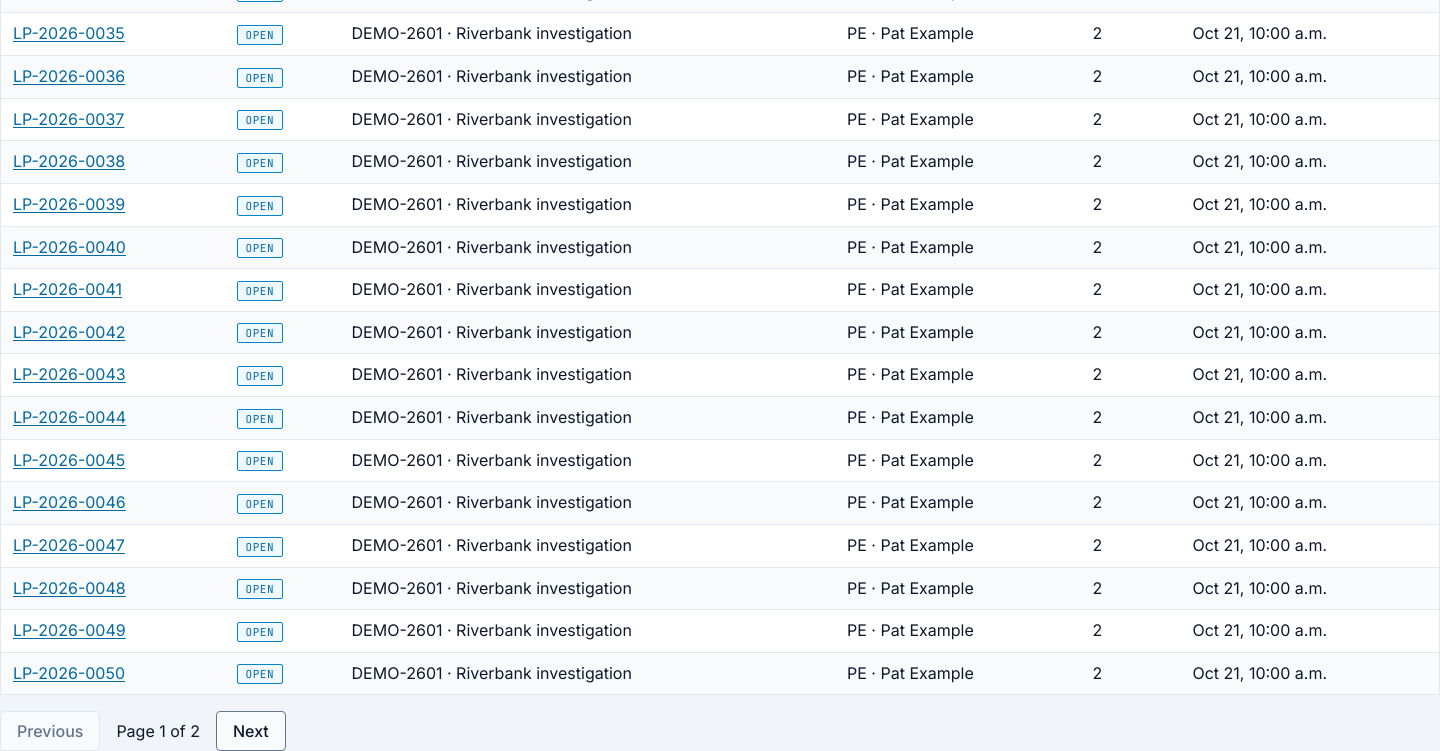
Test: Lab Testing → Programs list › BUG-002: pages through 51 programs and reaches the 51st
The width and height of the screenshot is (1440, 751).
(page scrolled)
Expected: the button "Previous" is disabled, [0,712,100,750]
Expected: the text "Page 1 of 2" is shown, [116,722,200,742]
Click the button "Next": (251, 732) [216,712,286,750]
(page scrolled)
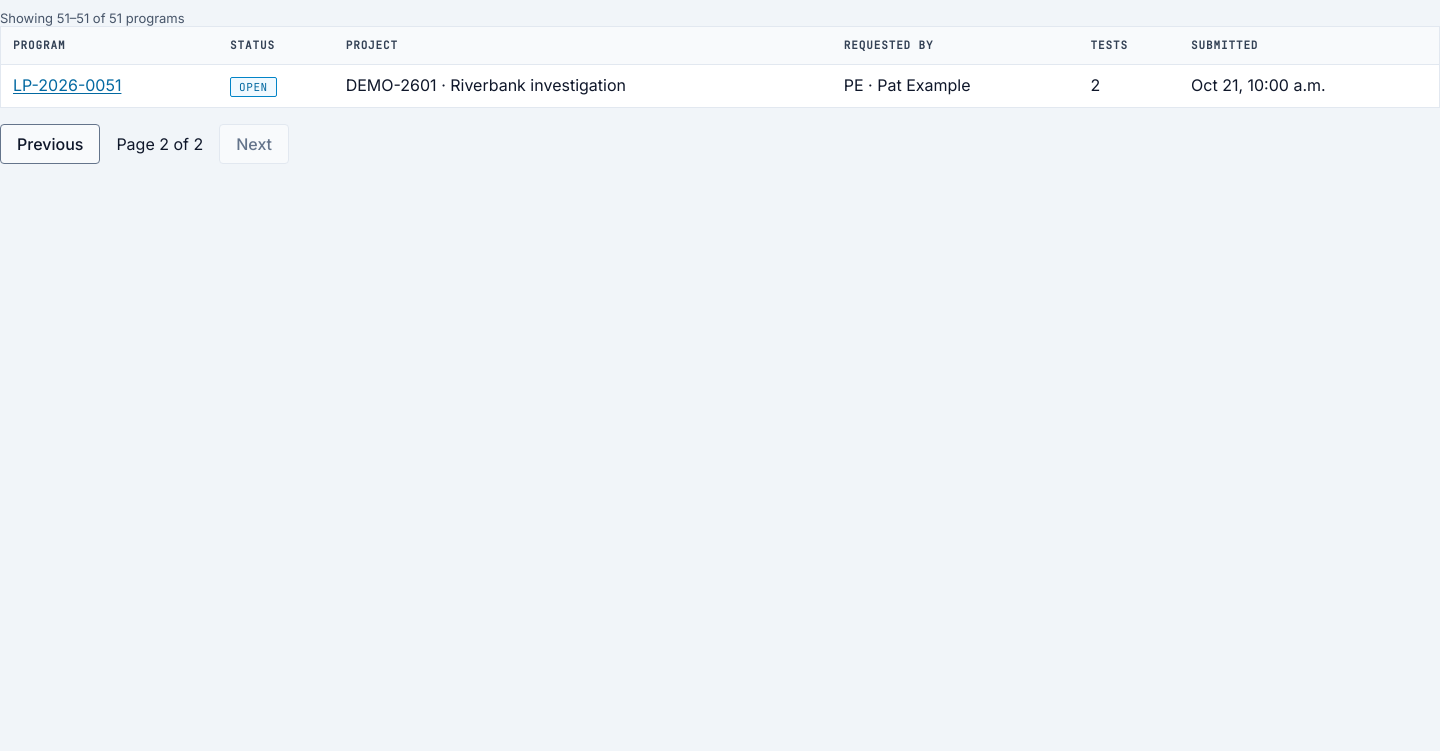
Result: the text "Showing 51–51 of 51 programs" is shown at [0,10,185,26]
Result: the button "Next" is disabled at [219,124,289,164]
